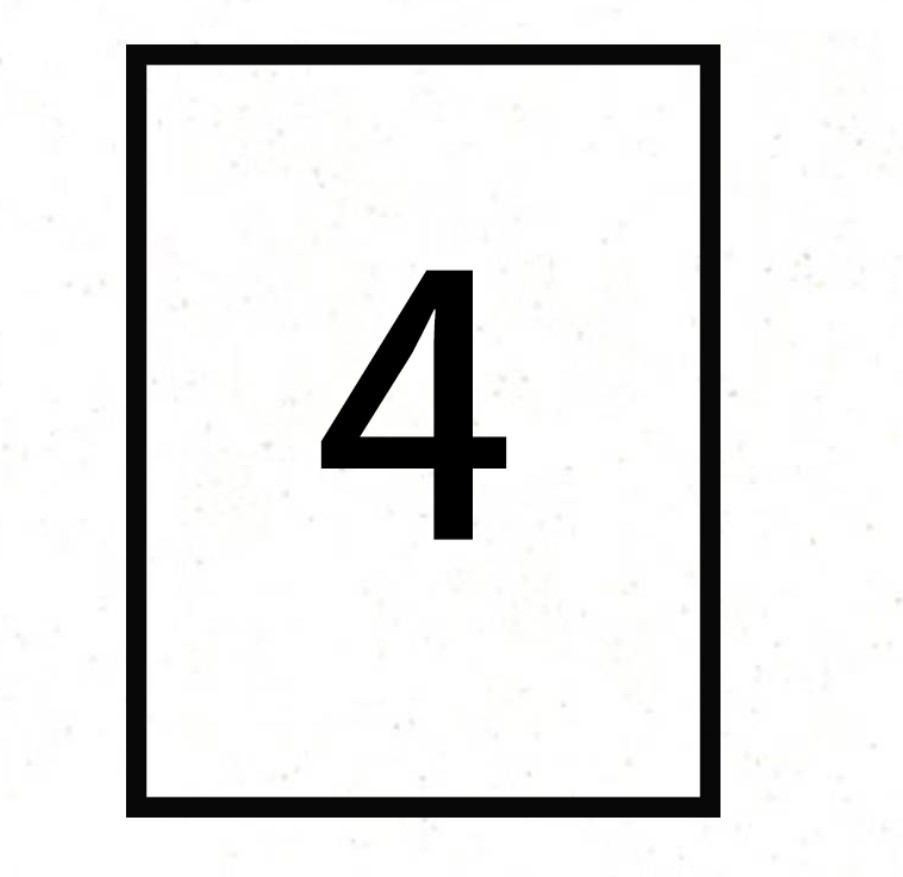four: (201, 194, 596, 640)
